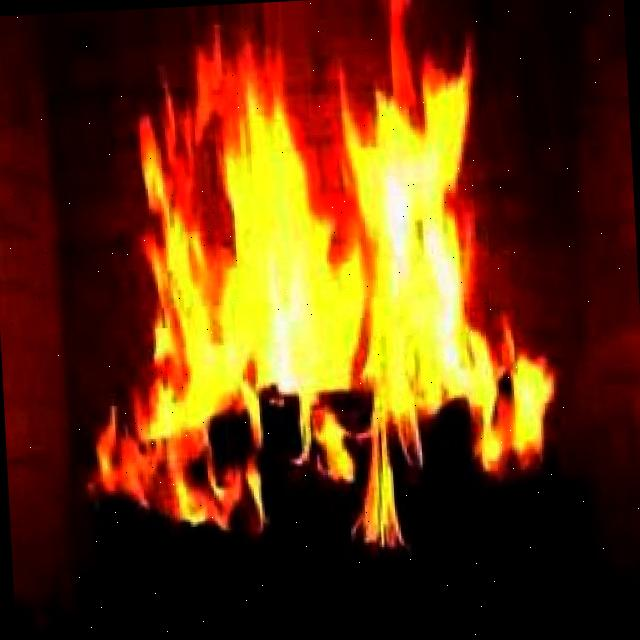fire: (128, 46, 526, 474)
